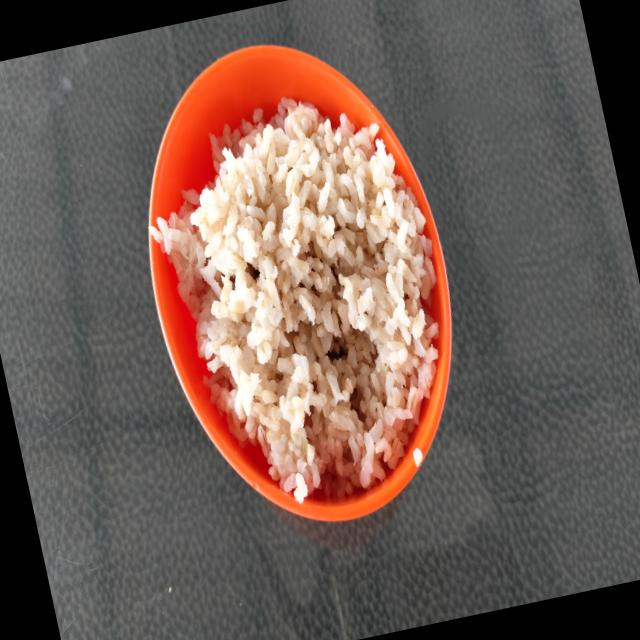brown-rice: (150, 97, 439, 503)
